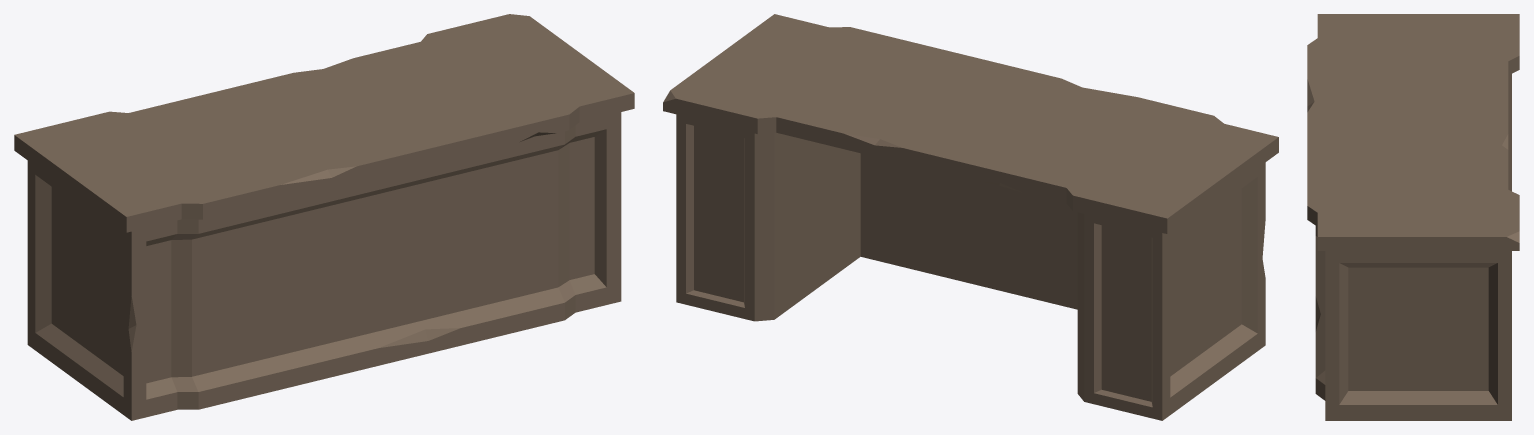
The model's file is SM_Prop_Desk_02.fbx.
3 renders of one model, left to right at view 1: azimuth 30°, elevation 25°; view 2: azimuth 150°, elevation 25°; view 3: azimuth 270°, elevation 25°, orthographic. The views are drawn at different scales.
Parts seen in each view (by area): view 1: SM_Prop_Desk_02; view 2: SM_Prop_Desk_02; view 3: SM_Prop_Desk_02.
Boxes of the visible parts, x1,y1,x2,y2 form: SM_Prop_Desk_02: (14,14,634,420); SM_Prop_Desk_02: (663,14,1278,420); SM_Prop_Desk_02: (1307,14,1519,420).
Size of the model in its own units: 223 by 87.69 by 89.58.
